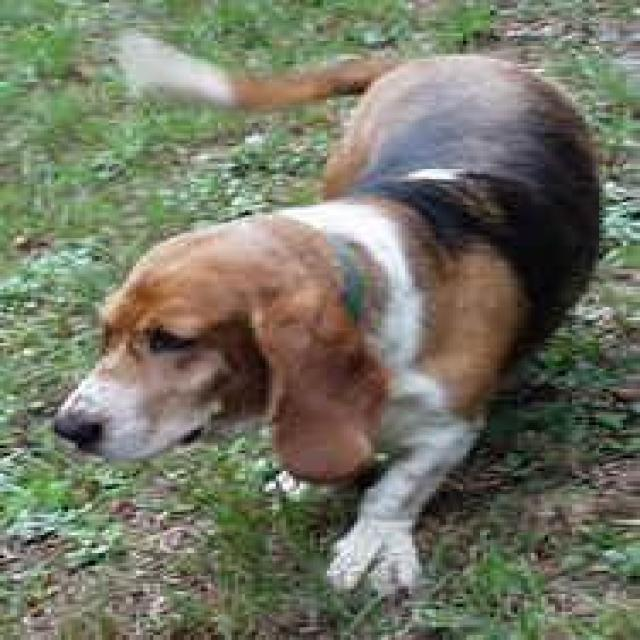basset: (45, 23, 610, 597)
